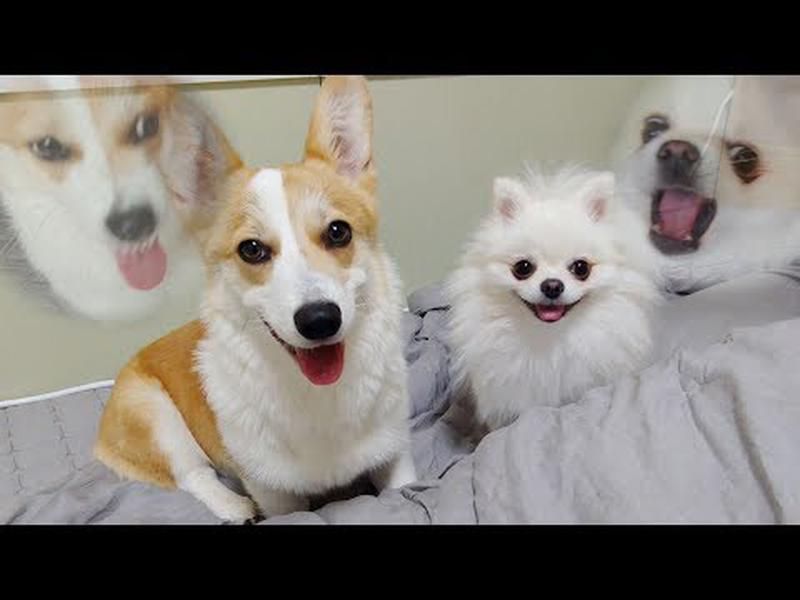corgi: (161, 78, 385, 390)
